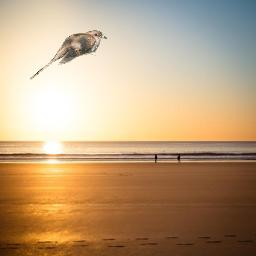Cuckoo: (30, 30, 107, 80)
